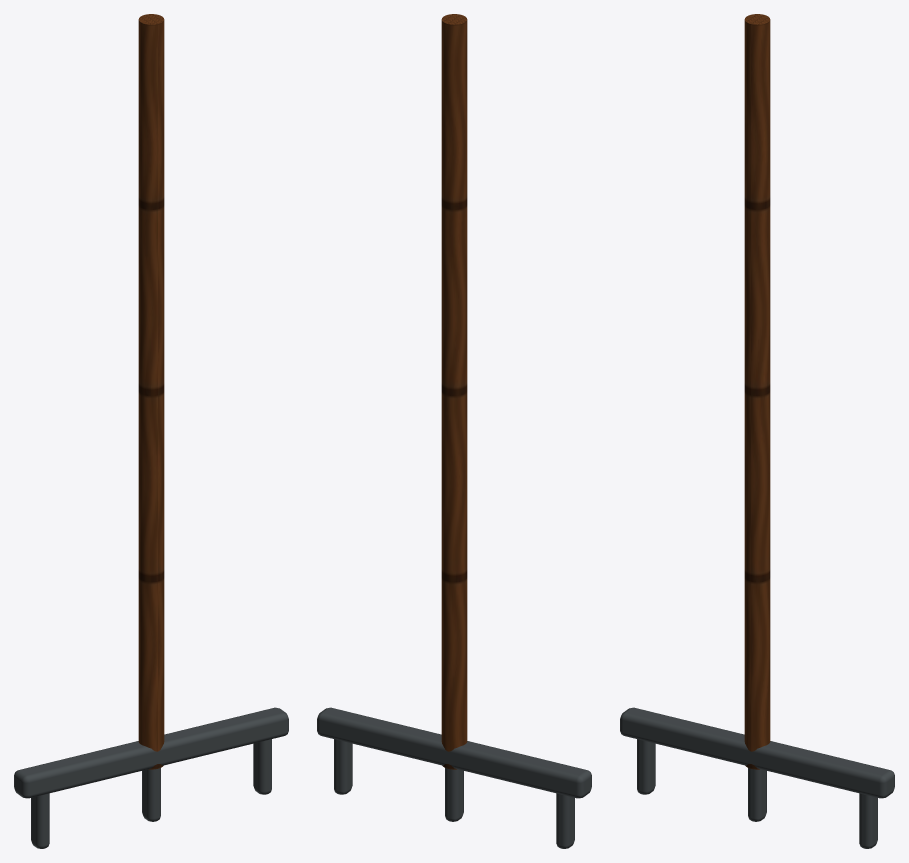
File: undercity-sewers-and-thieves-den-screen-rake-3ab89efb__27229.glb
3 renders of one model, left to right at view 1: azimuth 30°, elevation 25°; view 2: azimuth 150°, elevation 25°; view 3: azimuth 330°, elevation 25°, orthographic.
Parts seen in each view (by area): view 1: screen-rake; view 2: screen-rake; view 3: screen-rake.
Boxes of the visible parts, box(x1,y1,x2,y2) form: screen-rake: box(14, 14, 288, 848); screen-rake: box(317, 14, 591, 848); screen-rake: box(620, 14, 894, 848).
Size of the model in its own units: 0.6 by 1.72 by 0.05.
2 materials, 1 textured.
